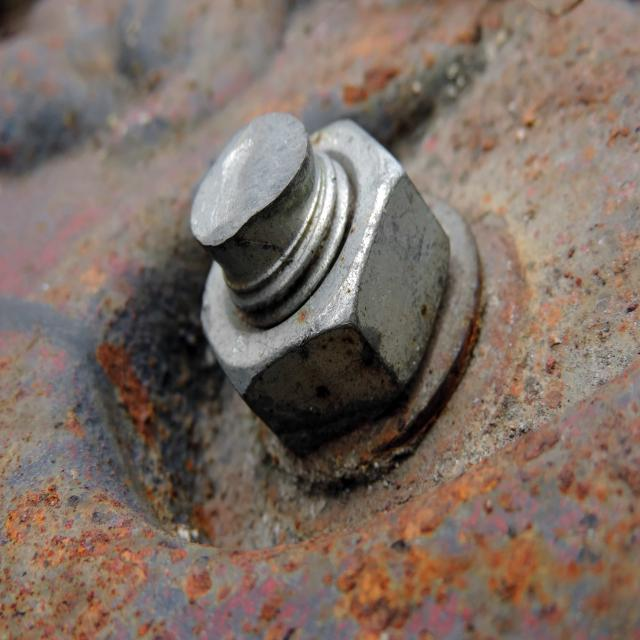bolt nut: (200, 116, 451, 454)
